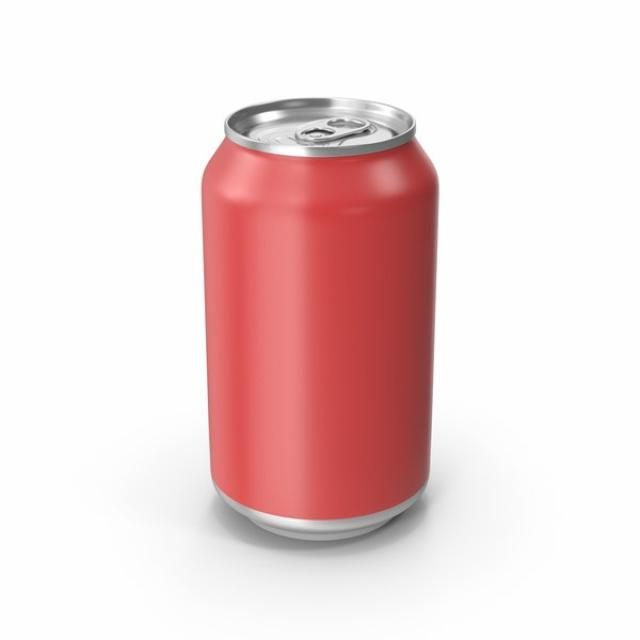can: (200, 93, 441, 545)
